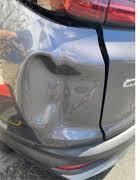dent: (15, 44, 100, 150)
